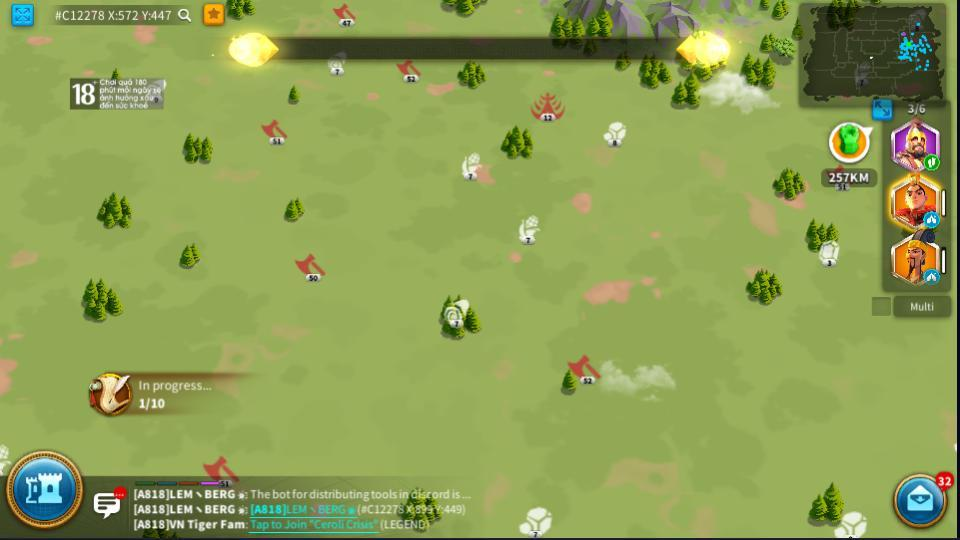gem-z-out: (836, 524, 866, 539), (0, 443, 9, 459)
march_idle: (923, 271, 939, 283), (923, 213, 938, 225)
march_marching: (923, 156, 938, 169)
